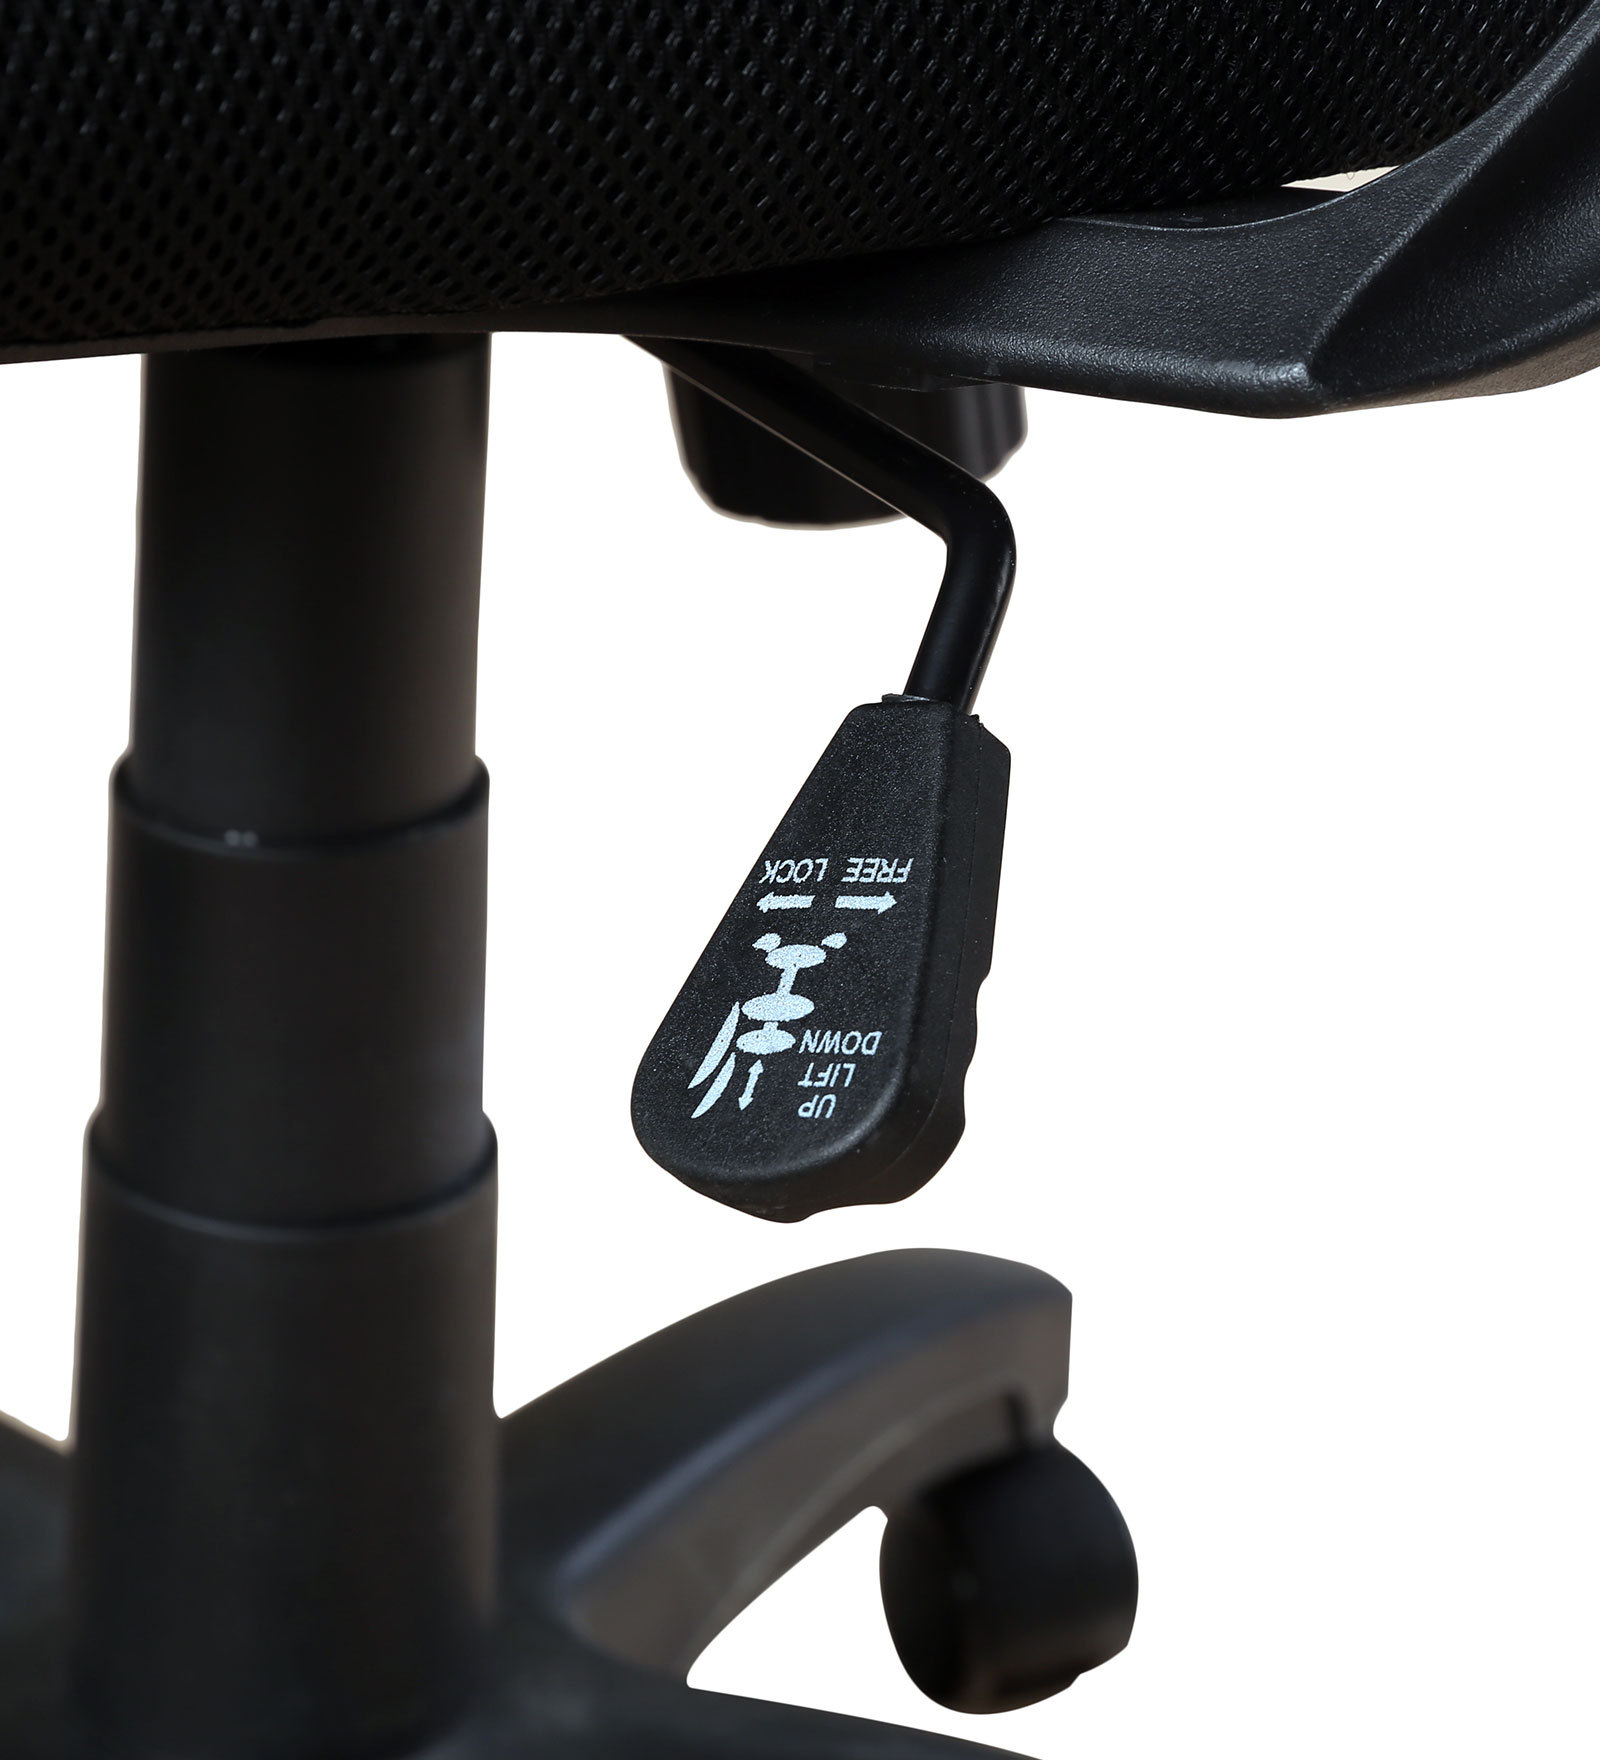Regus Low Back Mesh Chair in Green Colour by Hometown: (23, 136, 1385, 1706)
